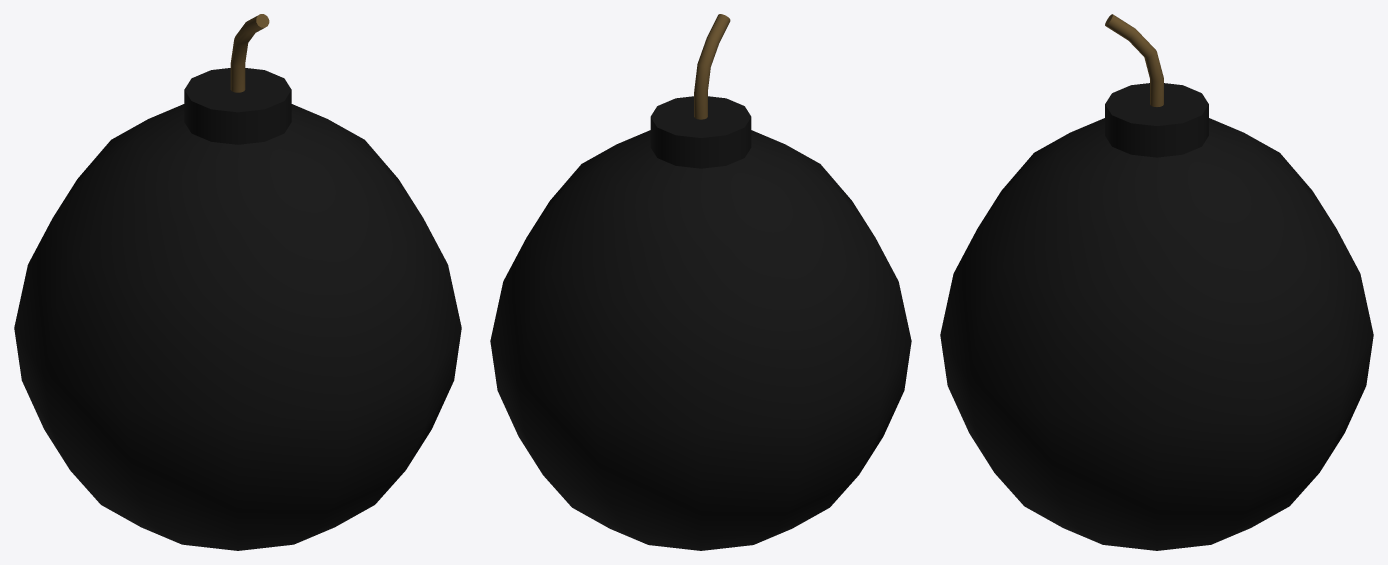
Rendered from Bomba_02.fbx.
3 views of the same model, side by side, from view 1: azimuth 30°, elevation 25°; view 2: azimuth 150°, elevation 25°; view 3: azimuth 270°, elevation 25° (orthographic). The views are drawn at different scales.
Visible parts, largest first — view 1: bomba; view 2: bomba; view 3: bomba.
Boxes of the visible parts, x1,y1,x2,y2 form: bomba: (14,14,461,550); bomba: (490,14,911,550); bomba: (940,14,1373,550).
Bounding box in the file's own units: 0.4932 × 0.6487 × 0.4932.
1 material, 1 textured.
